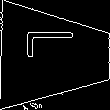L_E: (26, 40, 84, 71)
